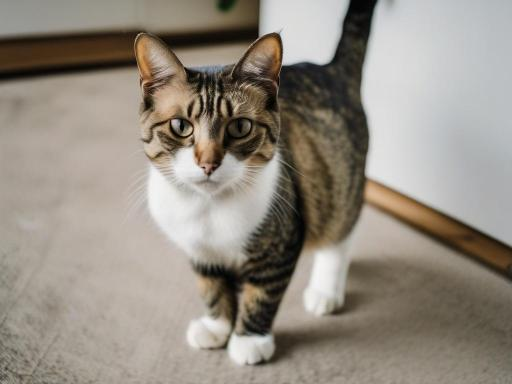cat_standing: (134, 0, 376, 364)
